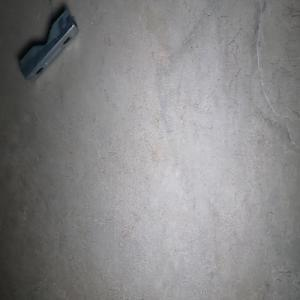ClampPart: (17, 7, 80, 83)
